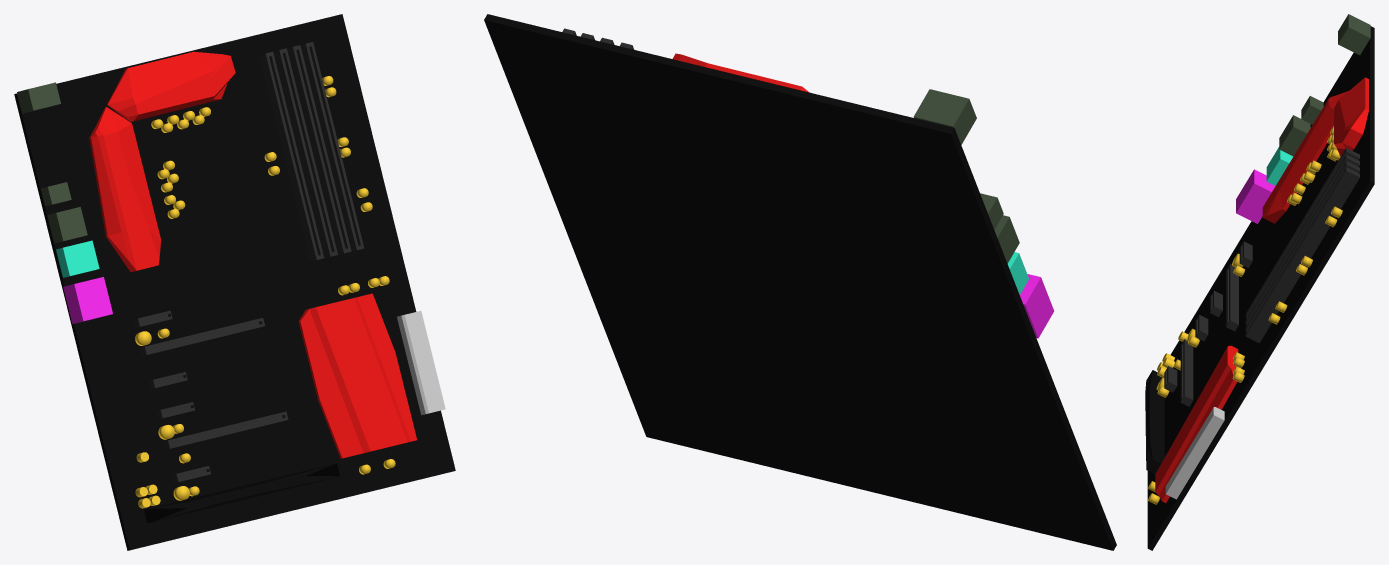
The model's file is mother.fbx.
The picture shows the model from 3 angles, left to right: view 1: azimuth 30°, elevation 25°; view 2: azimuth 150°, elevation 25°; view 3: azimuth 270°, elevation 25°; orthographic projection. The views are drawn at different scales.
Parts seen in each view (by area): view 1: Cubo.002, Cubo.003, Cubo.004, Cubo.005, Cilindro.027, Cubo.006, Cubo.007, Cubo.008, Cubo.009, Cubo.010, Cubo.015, Cubo.001 (+4 smaller); view 2: Cubo.002, Cubo.019, Cubo.015; view 3: Cubo.002, Cubo.009, Cubo.003, Cubo.004, Cilindro.027, Cubo.005, Cubo.010, Cubo.015, Cubo.019, Cubo.006, Cubo.001, Cubo.007 (+9 smaller).
Part boxes in pixels (x1,y1,x2,y2): Cubo.002: (14, 14, 455, 550); Cubo.003: (298, 293, 416, 458); Cubo.004: (89, 107, 161, 272); Cubo.005: (107, 51, 235, 121); Cilindro.027: (135, 76, 395, 500); Cubo.006: (258, 51, 324, 261); Cubo.007: (273, 48, 337, 258); Cubo.008: (287, 45, 351, 254); Cubo.009: (300, 42, 364, 251); Cubo.010: (397, 311, 445, 415); Cubo.015: (63, 277, 112, 323); Cubo.001: (163, 411, 288, 449); Cubo.002: (484, 14, 1116, 550); Cubo.019: (913, 89, 976, 144); Cubo.015: (1020, 274, 1054, 338); Cubo.002: (1145, 26, 1374, 550); Cubo.009: (1245, 167, 1359, 343); Cubo.003: (1155, 345, 1238, 502); Cubo.004: (1262, 91, 1348, 223); Cilindro.027: (1148, 126, 1342, 504); Cubo.005: (1334, 77, 1368, 156); Cubo.010: (1165, 407, 1224, 499); Cubo.015: (1236, 169, 1275, 223); Cubo.019: (1338, 14, 1370, 55); Cubo.006: (1245, 148, 1359, 317); Cubo.001: (1180, 339, 1193, 406); Cubo.007: (1245, 154, 1359, 324).
Bounding box in the file's own units: 1.16 × 1.32 × 0.7175.
